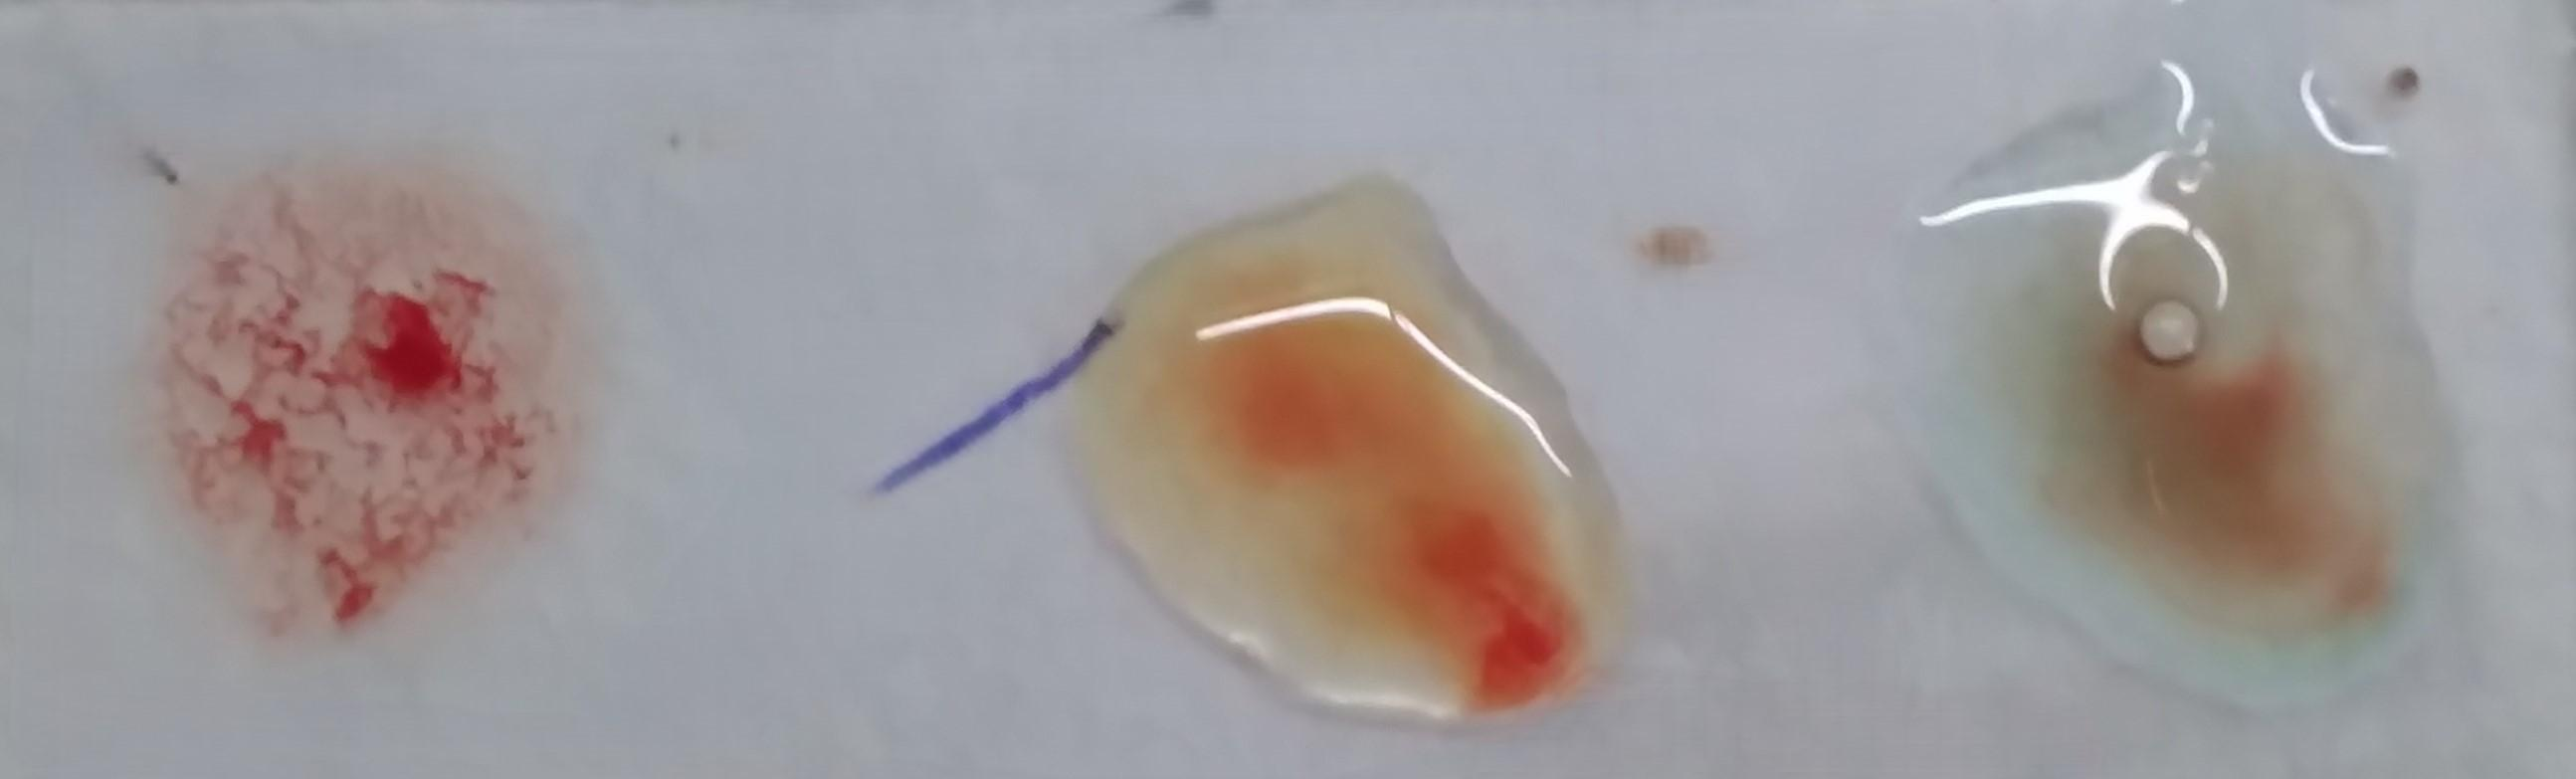D: (145, 164, 560, 662)
